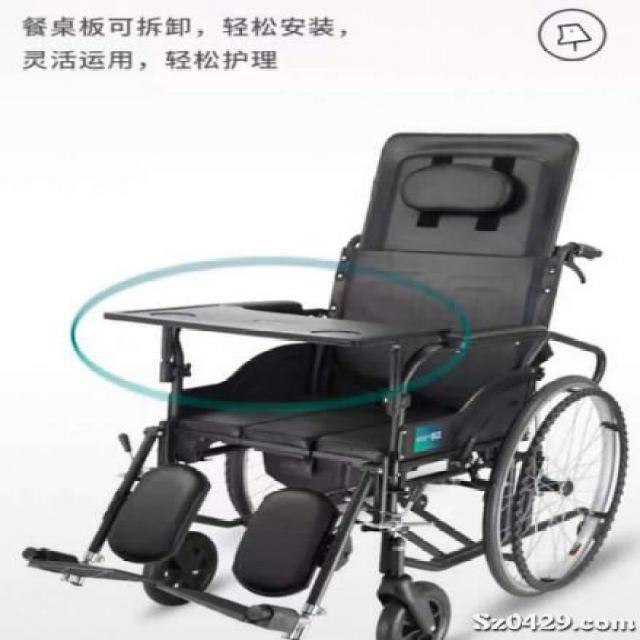wheelchair: (20, 118, 626, 639)
